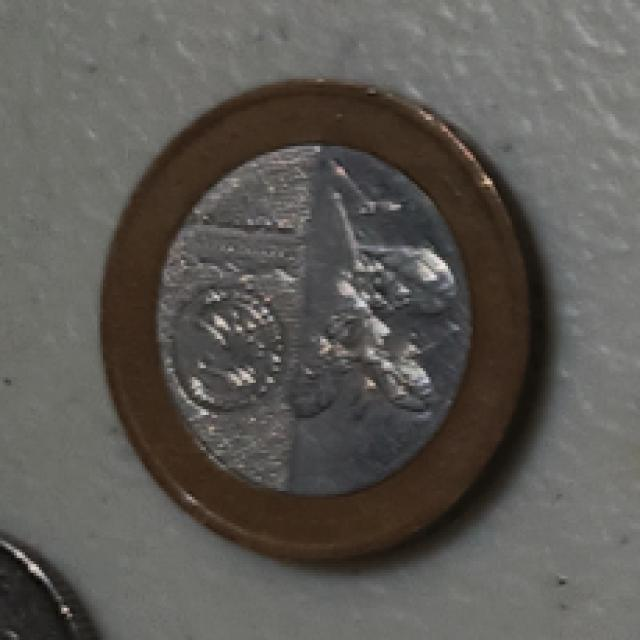20_peso: (103, 85, 526, 552)
